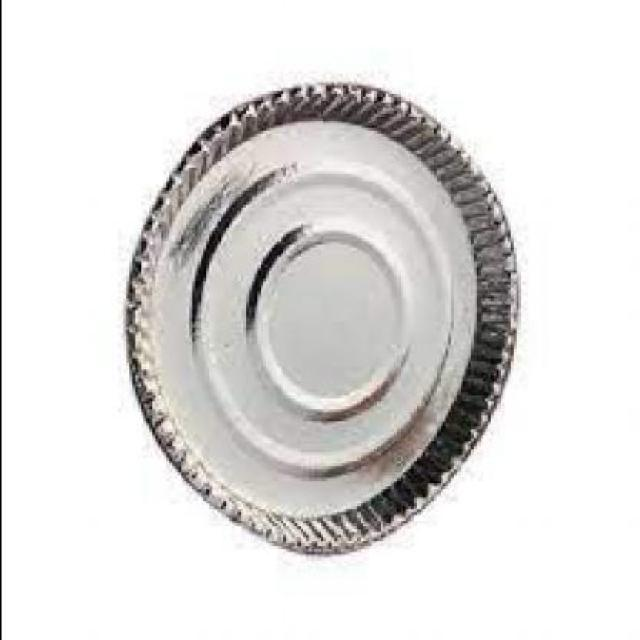METAL: (128, 85, 521, 558)
